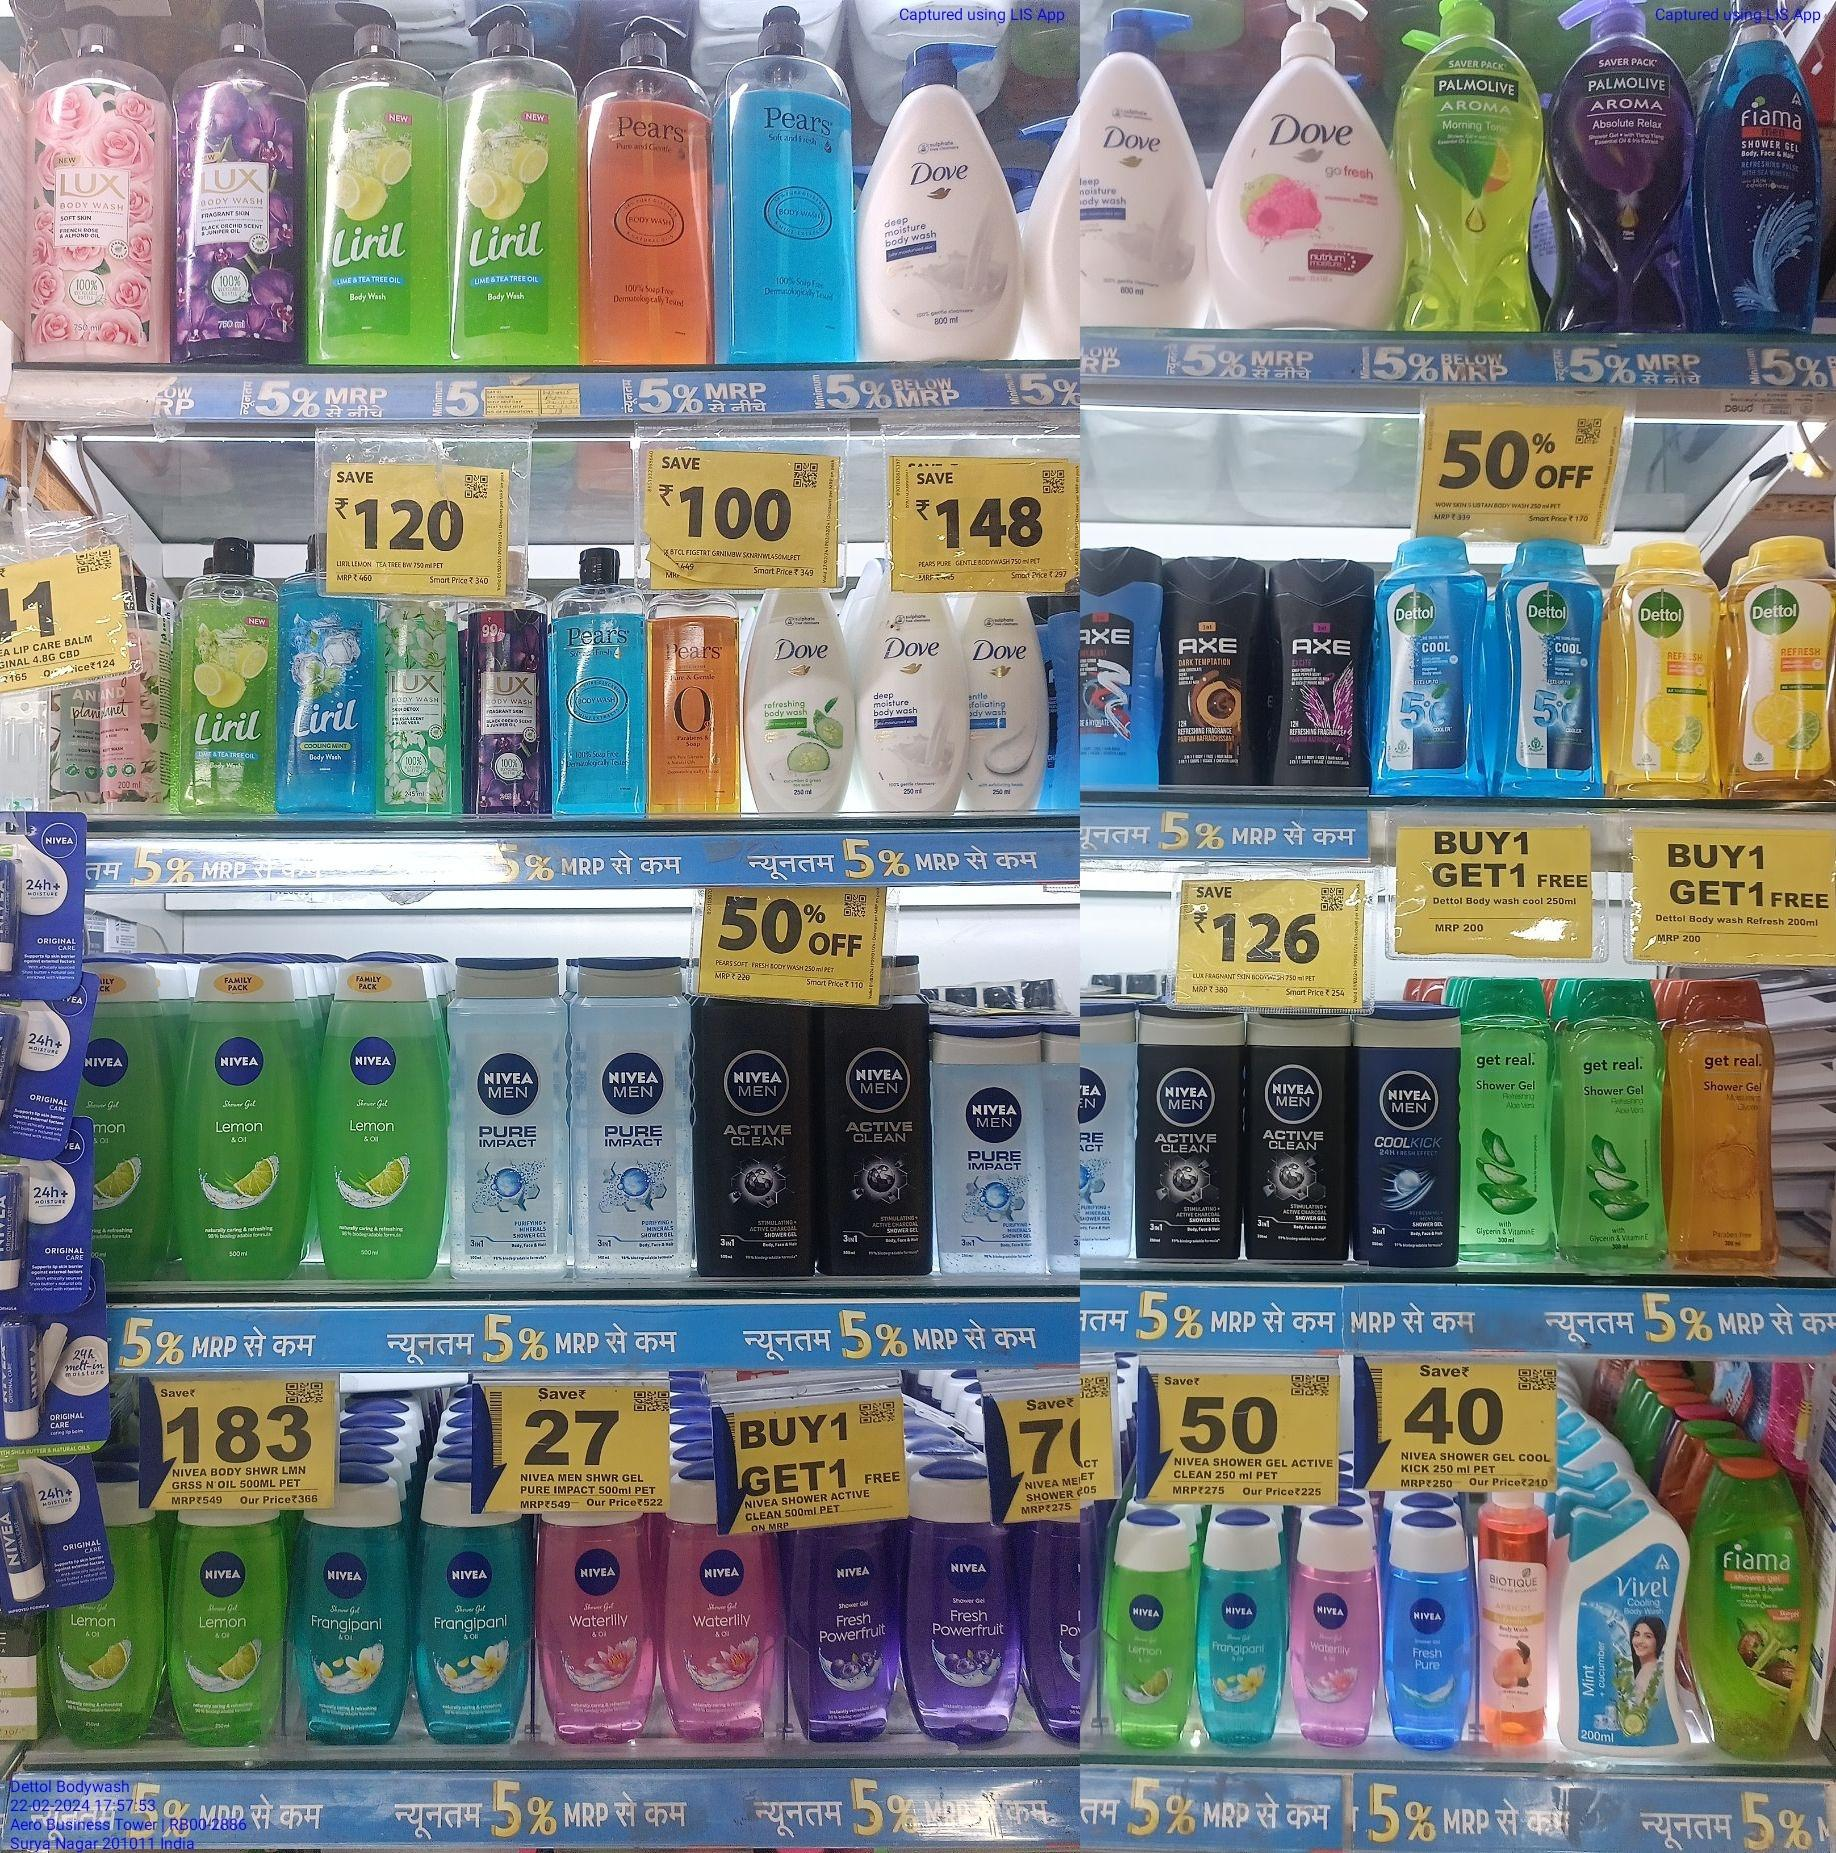Dettol_Bodywash_Cool: (1500, 538, 1606, 799), (1379, 536, 1483, 797)
Dettol_Bodywash_Refresh: (1725, 538, 1836, 802), (1619, 541, 1720, 797)
Dove_Deep_Moisture_Body_Wash_250ML: (861, 578, 962, 814)
Dove_Gentle_Exfoliating_Body_Wash_250ML: (965, 587, 1042, 812)
Dove_Refreshing_Body_Wash_250ML: (750, 583, 851, 816)
Fiama_Shower_Gel_Lemongrass_and_Jojoba_250ML: (1695, 1465, 1801, 1761)
Get_Real_Shower_Gel_Moisturising_Glycerin_300ML: (1666, 979, 1774, 1273)
Liril_Cooling_Mint_Body_Wash_250ML: (277, 573, 373, 817)
Liril_Lime_and_Tea_Tree_Oil_Body_Wash_250ML: (180, 546, 277, 814)
Lux_Black_Orchid_Scent_and_Juniper_Oil_Body_Wash_245ML: (469, 600, 553, 819)
Lux_Body_Wash_Skin_Detox_Freesia_Scent_and_Alove_Vera_245ML: (382, 605, 462, 807)
Nivea_Shower_Gel_Frangipani_and_Oil_250ML: (291, 1505, 398, 1749), (417, 1491, 520, 1745)
Nivea_Shower_Gel_Fresh_Powerfruit_250ML: (906, 1480, 1010, 1744), (782, 1523, 891, 1747)
Nivea_Shower_Gel_Lemon_and_Oil_250ML: (175, 960, 298, 1281), (319, 962, 442, 1278), (168, 1507, 279, 1750)
Nivea_Shower_Gel_Waterlily_and_Oil_250ML: (654, 1495, 775, 1745), (536, 1507, 649, 1747)
